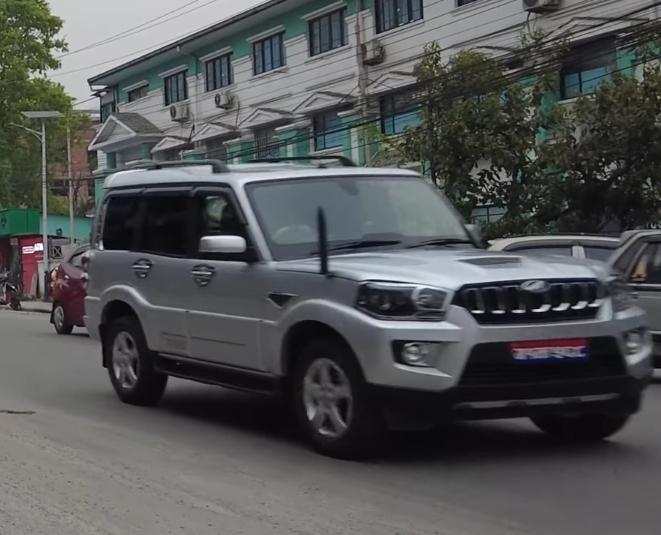SUV: (82, 135, 661, 446)
